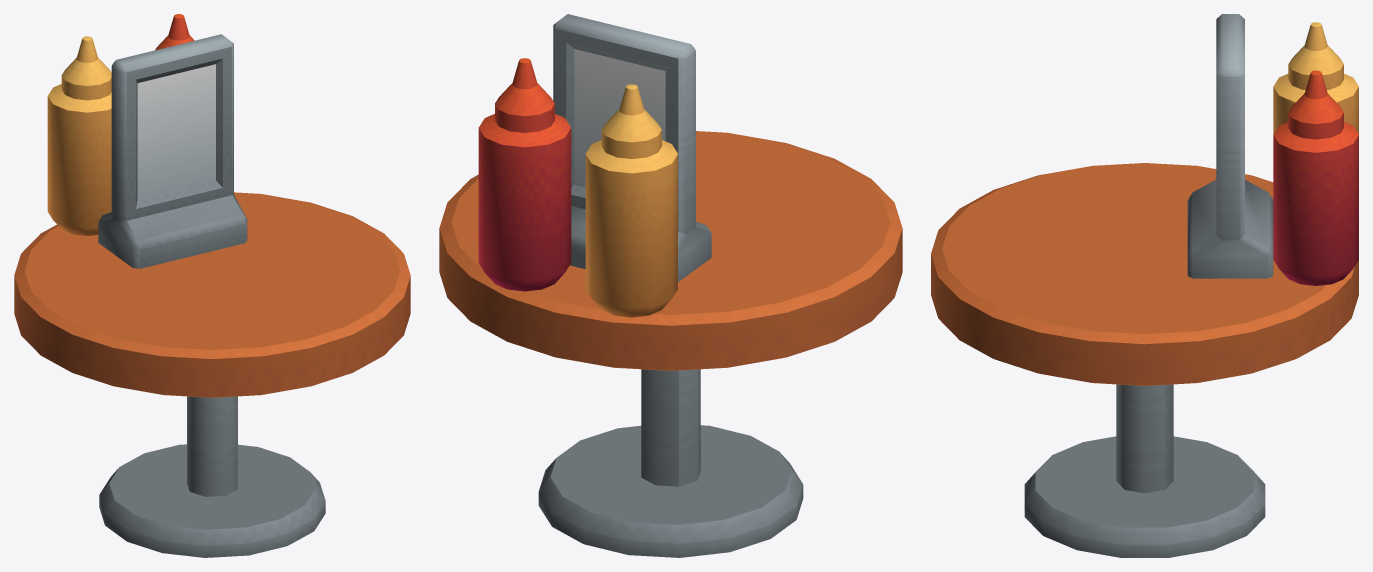
File: table_round_A_small_decorated.gltf
3 views of the same model, side by side, from view 1: azimuth 30°, elevation 25°; view 2: azimuth 150°, elevation 25°; view 3: azimuth 270°, elevation 25° (orthographic). The views are drawn at different scales.
Visible parts, largest first — view 1: table_round_A_small_decorated; view 2: table_round_A_small_decorated; view 3: table_round_A_small_decorated.
Boxes of the visible parts, <box> form: table_round_A_small_decorated: <box>14,14,410,557</box>; table_round_A_small_decorated: <box>439,14,902,557</box>; table_round_A_small_decorated: <box>931,14,1358,557</box>.
Size of the model in its own units: 1.5 by 1.8 by 1.5.
1 material, 1 textured.
